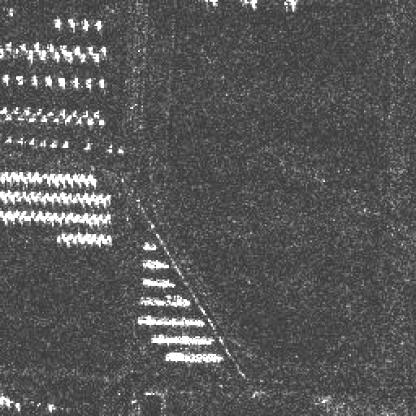airplane: (80, 18, 90, 31), (96, 76, 106, 88), (83, 76, 91, 90), (89, 52, 99, 62), (92, 20, 102, 30), (70, 75, 78, 86), (54, 18, 62, 29), (44, 73, 52, 83), (31, 73, 39, 83), (14, 73, 22, 83), (98, 46, 106, 56), (58, 44, 66, 54), (1, 72, 10, 80), (60, 141, 70, 148), (56, 74, 63, 84), (73, 46, 80, 56), (0, 45, 6, 56), (39, 138, 47, 146), (27, 138, 36, 145), (93, 109, 99, 119), (78, 52, 84, 62), (65, 50, 71, 60), (52, 50, 58, 60), (33, 42, 39, 52), (67, 18, 73, 28), (76, 216, 84, 223), (99, 216, 107, 223), (86, 237, 94, 244), (42, 190, 49, 198), (75, 115, 83, 122), (21, 107, 29, 114), (84, 46, 92, 53), (46, 44, 53, 52), (46, 193, 52, 202), (115, 145, 124, 151), (73, 211, 80, 218), (81, 211, 88, 218), (8, 193, 15, 200), (89, 193, 96, 200), (34, 107, 41, 114), (14, 210, 20, 218), (66, 232, 74, 238), (100, 196, 106, 204), (5, 137, 13, 143), (16, 137, 24, 143), (84, 117, 92, 123), (82, 109, 90, 115), (70, 109, 76, 117), (5, 114, 13, 120), (0, 106, 8, 112), (39, 49, 45, 57), (26, 52, 32, 60), (18, 44, 26, 50), (21, 188, 26, 197), (55, 193, 60, 202), (65, 115, 70, 124), (47, 214, 54, 220), (58, 212, 64, 219), (67, 211, 73, 218), (70, 216, 76, 223), (85, 216, 91, 223), (88, 211, 94, 218), (96, 211, 102, 218), (104, 212, 110, 219), (76, 232, 82, 239), (80, 237, 86, 244), (28, 190, 34, 197), (39, 193, 45, 200), (50, 190, 56, 197), (65, 190, 71, 197), (29, 176, 36, 182), (59, 177, 65, 184), (67, 177, 73, 184), (49, 141, 55, 148), (83, 141, 89, 148), (13, 107, 19, 114), (18, 170, 23, 178), (26, 169, 31, 177), (46, 176, 51, 184), (91, 177, 96, 185), (28, 116, 38, 120), (5, 210, 11, 216), (28, 210, 34, 216), (32, 213, 38, 219), (85, 232, 91, 238), (0, 193, 6, 199), (5, 189, 11, 195), (31, 195, 37, 201), (85, 197, 91, 203), (92, 197, 98, 203), (10, 171, 16, 177), (14, 176, 20, 182), (33, 171, 39, 177), (98, 119, 104, 125), (59, 111, 65, 117), (94, 218, 101, 223), (91, 233, 96, 240), (96, 237, 101, 244), (102, 237, 107, 244), (25, 193, 30, 200), (42, 172, 47, 179), (48, 172, 53, 179), (57, 172, 62, 179), (86, 174, 93, 179), (46, 110, 53, 115), (10, 214, 14, 222), (16, 116, 24, 120), (21, 210, 26, 216), (18, 215, 23, 221), (25, 213, 30, 219), (35, 210, 40, 216), (50, 211, 56, 216), (62, 216, 68, 221), (55, 236, 60, 242), (60, 232, 65, 238), (63, 236, 68, 242), (99, 232, 104, 238), (106, 234, 112, 239), (62, 195, 68, 200), (3, 171, 8, 177), (38, 176, 43, 182), (76, 177, 82, 182), (106, 145, 112, 150), (52, 117, 58, 122), (41, 117, 47, 122), (98, 193, 102, 200), (106, 193, 110, 200), (44, 211, 49, 216), (55, 216, 60, 221), (73, 235, 78, 240), (13, 190, 18, 195), (16, 195, 21, 200), (35, 190, 40, 195), (78, 197, 83, 202), (65, 172, 70, 177), (73, 172, 78, 177), (83, 177, 88, 182), (40, 215, 44, 221), (72, 195, 76, 201), (74, 192, 80, 196), (6, 176, 12, 180), (83, 192, 88, 196), (80, 174, 84, 179), (0, 176, 3, 182), (23, 176, 26, 182), (0, 188, 3, 193), (61, 190, 63, 197), (54, 177, 56, 184)
